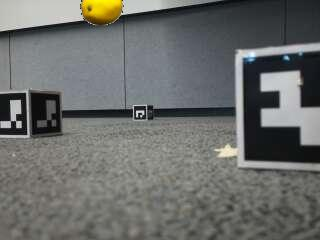lemon: (82, 0, 123, 24)
